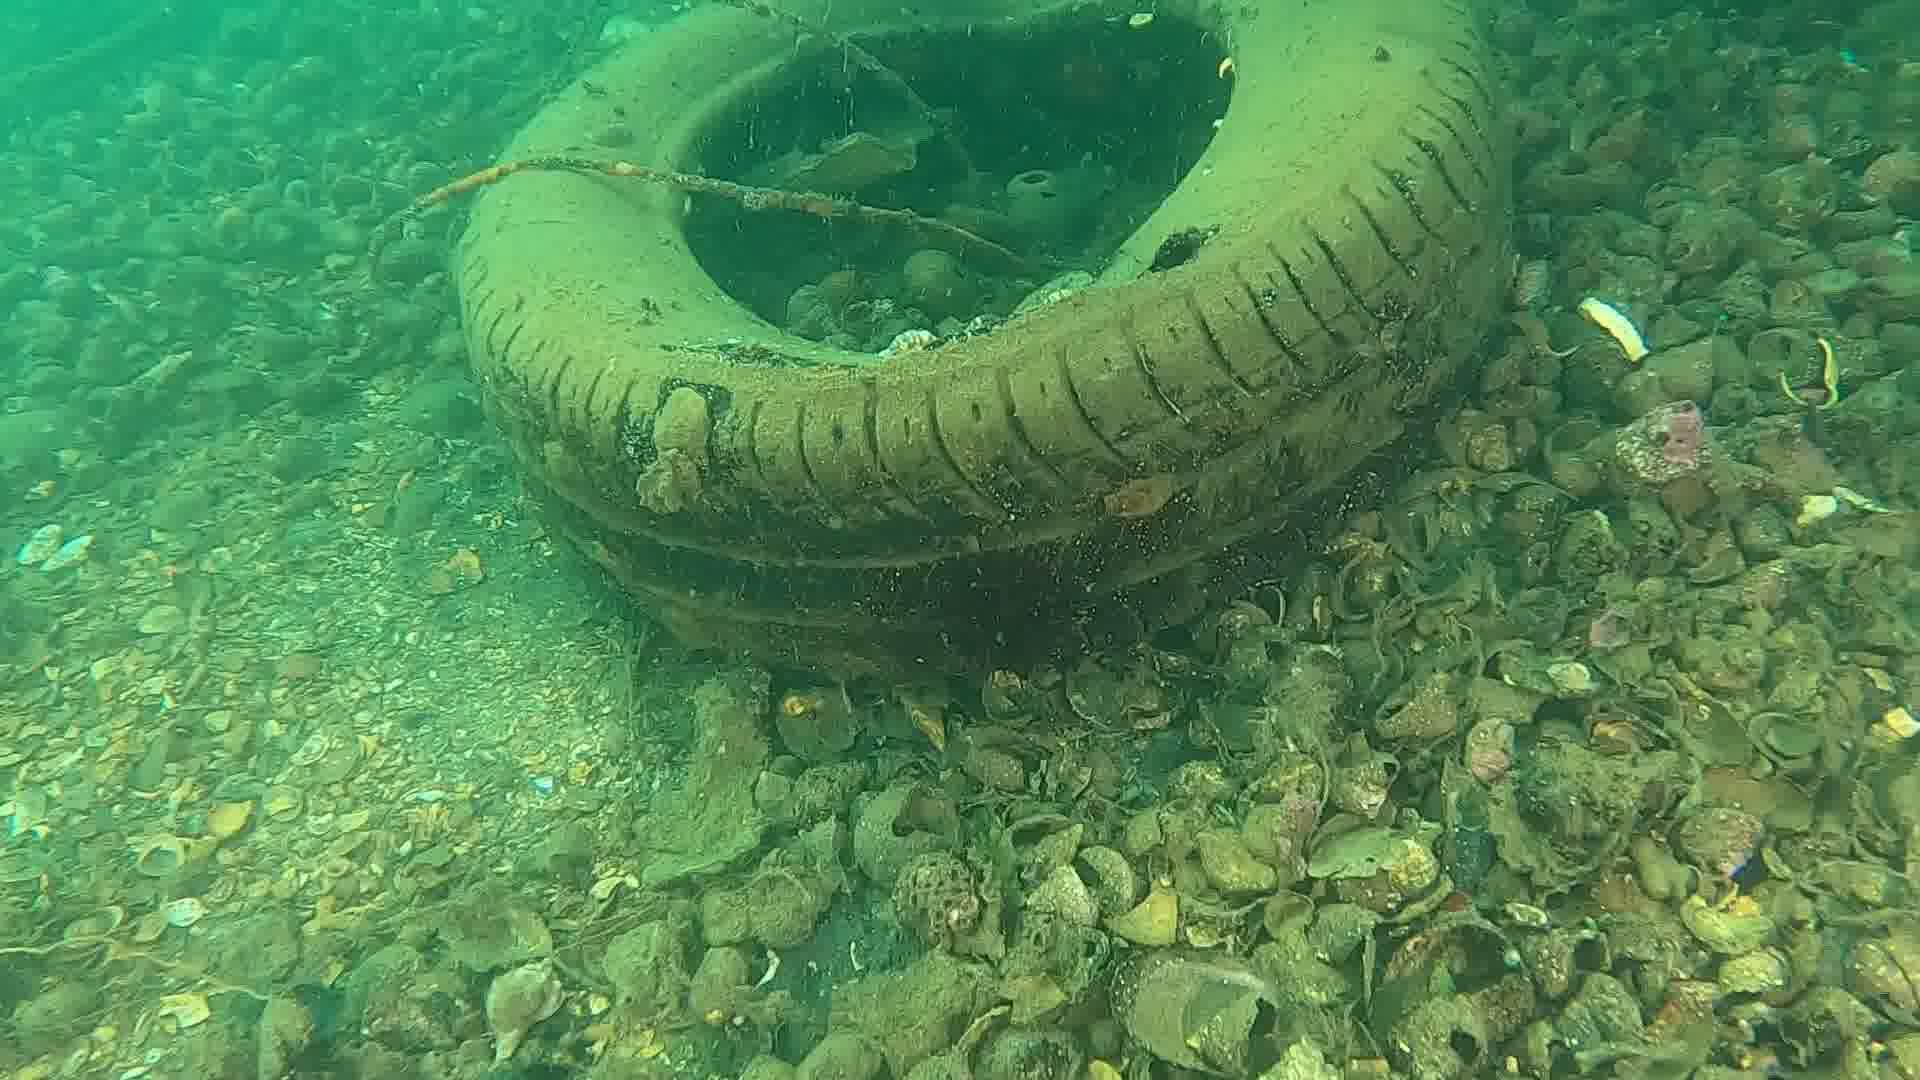tire: (446, 9, 1518, 694)
